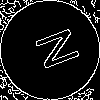N: (25, 25, 81, 76)
